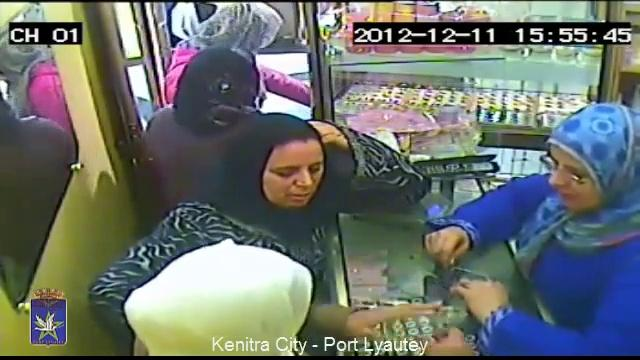Regular: (465, 86, 640, 360), (133, 231, 462, 360), (226, 107, 350, 223), (190, 13, 284, 120), (181, 0, 272, 50)
